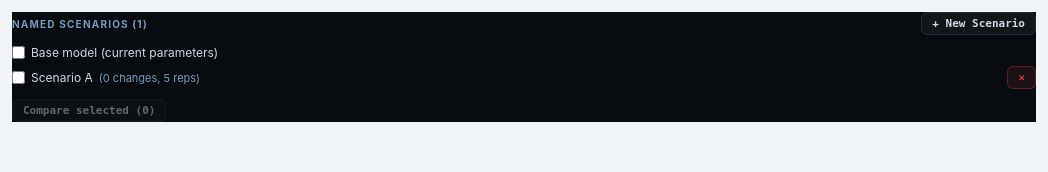
ScenarioManagerPanel › surfaces a comparison error instead of throwing when a replication run fails
The image size is (1048, 172).
Expected: the text "Scenario A" is shown, [31, 70, 93, 85]
Click the checkbox labelled "Base model (current parameters)".
click(18, 52)  # box [12, 46, 25, 59]
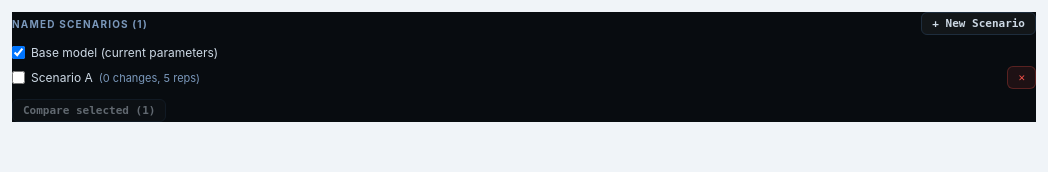
Click the checkbox labelled "Scenario A (0 changes, 5 reps)".
click(18, 78)  # box [12, 71, 25, 84]
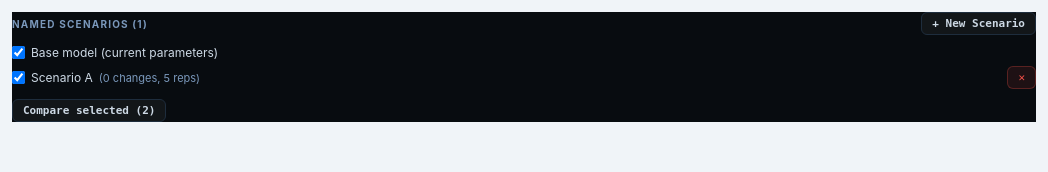
Click the button "Compare selected (2)".
click(89, 110)  # box [12, 99, 166, 122]
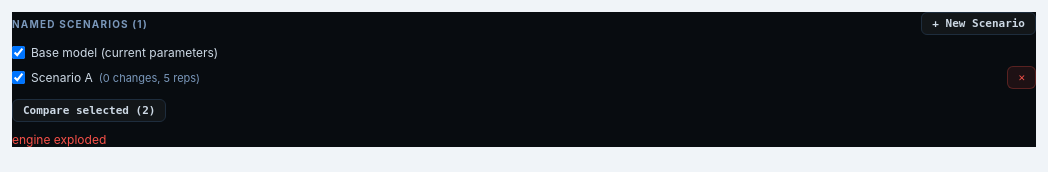
Now the text "engine exploded" is shown, box [12, 132, 106, 147]
